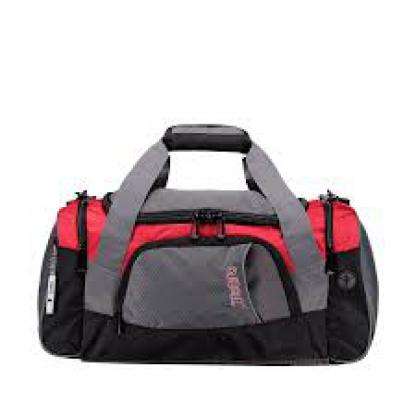morral: (30, 92, 388, 374)
